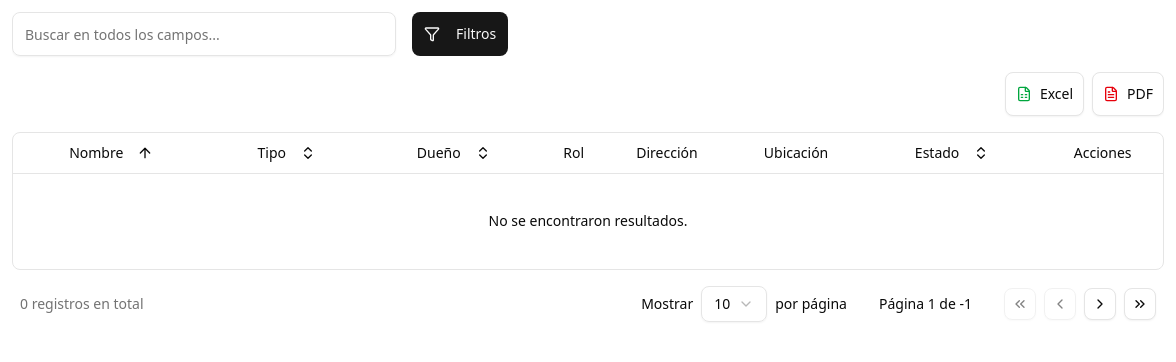
Test: EnvironmentsTable server-side sorting › uses centered sortable headers to update the server sort in the URL
Click the button "Dueño" at (454, 153), box [407,137,501,169]
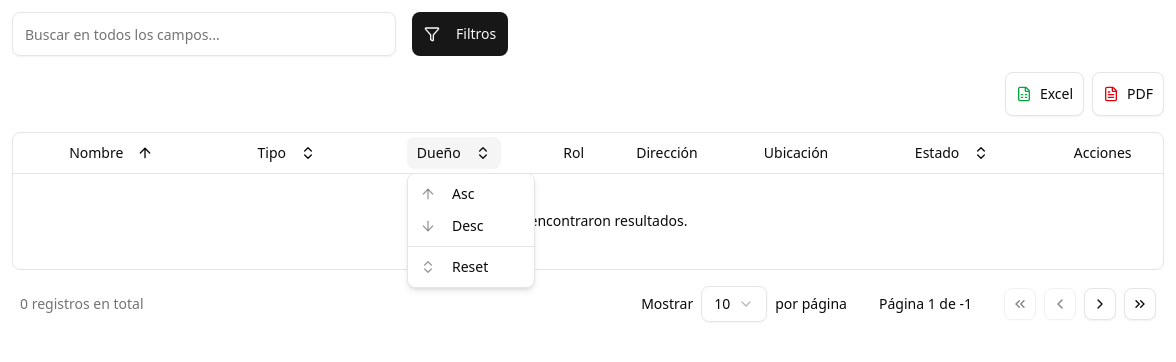
Click the menu item "Desc" at (452, 226), box [420,216,484,235]
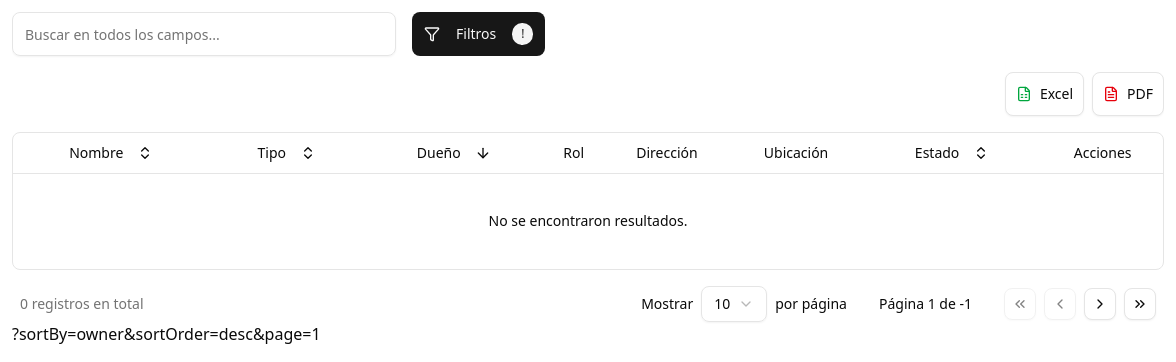
expect the text named "URL actual" shows "sortBy=owner&sortOrder=desc": met, box [12,323,321,345]
